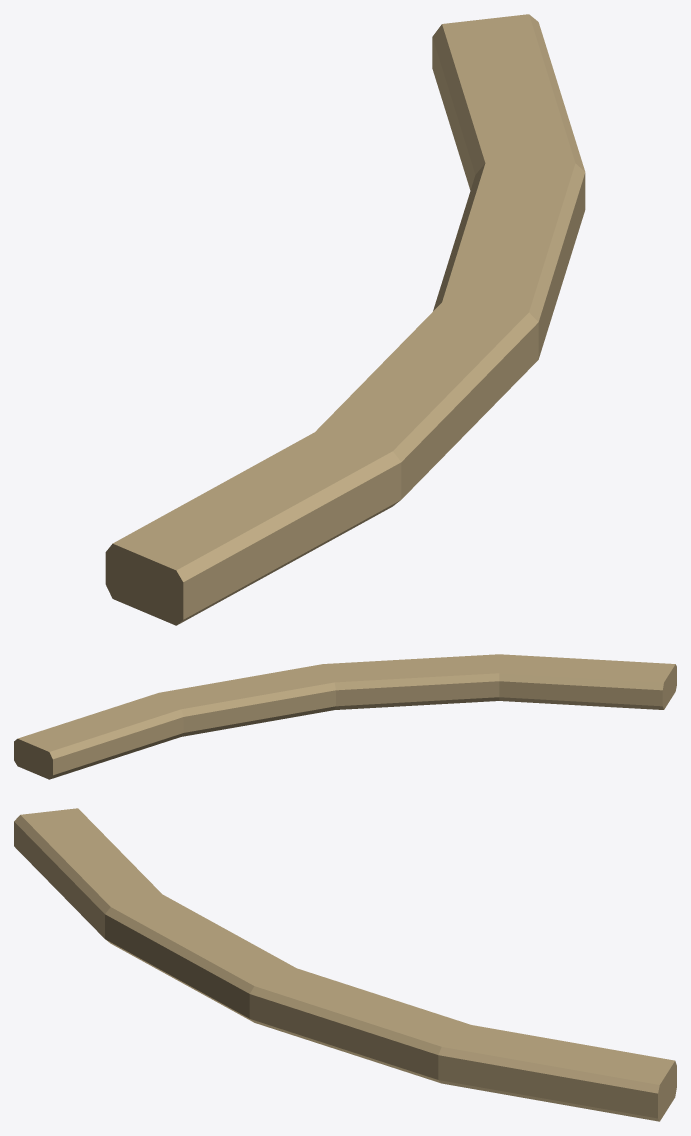
Rendered from Railing_curve.fbx.
3 renders of one model, top to bottom at view 1: azimuth 30°, elevation 25°; view 2: azimuth 150°, elevation 25°; view 3: azimuth 270°, elevation 25°, orthographic. The views are drawn at different scales.
Visible parts, largest first — view 1: railing_curve; view 2: railing_curve; view 3: railing_curve.
Boxes of the visible parts, bbox=[...] form: railing_curve: bbox=[105, 14, 585, 625]; railing_curve: bbox=[14, 654, 676, 779]; railing_curve: bbox=[14, 808, 676, 1121].
Size of the model in its own units: 520 by 31.76 by 520.
